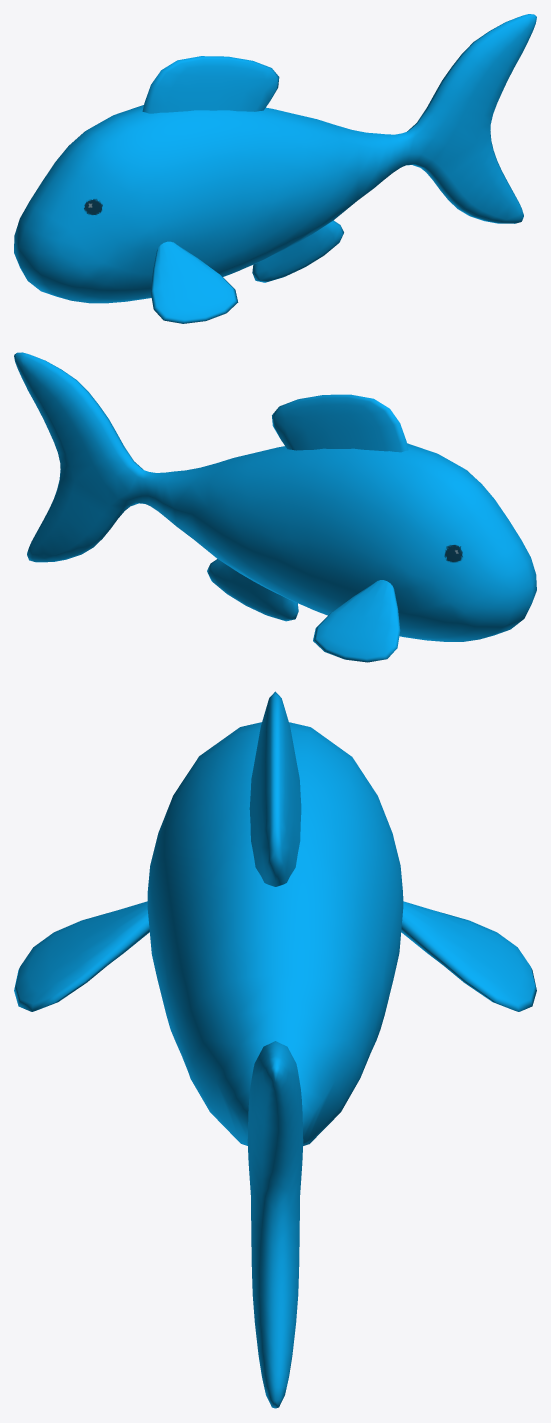
The model's file is cytanb-paint3d-fish.glb.
The picture shows the model from 3 angles, top to bottom: view 1: azimuth 30°, elevation 25°; view 2: azimuth 150°, elevation 25°; view 3: azimuth 270°, elevation 25°; orthographic projection. The views are drawn at different scales.
Parts seen in each view (by area): view 1: mesh_id27; view 2: mesh_id27; view 3: mesh_id27.
Part boxes in pixels (x1,y1,x2,y2): mesh_id27: (14,14,536,323); mesh_id27: (14,352,536,662); mesh_id27: (14,691,536,1408).
Size of the model in its own units: 0.3925 by 0.1783 by 0.1988.
Materials: 1 (1 with a texture image).
